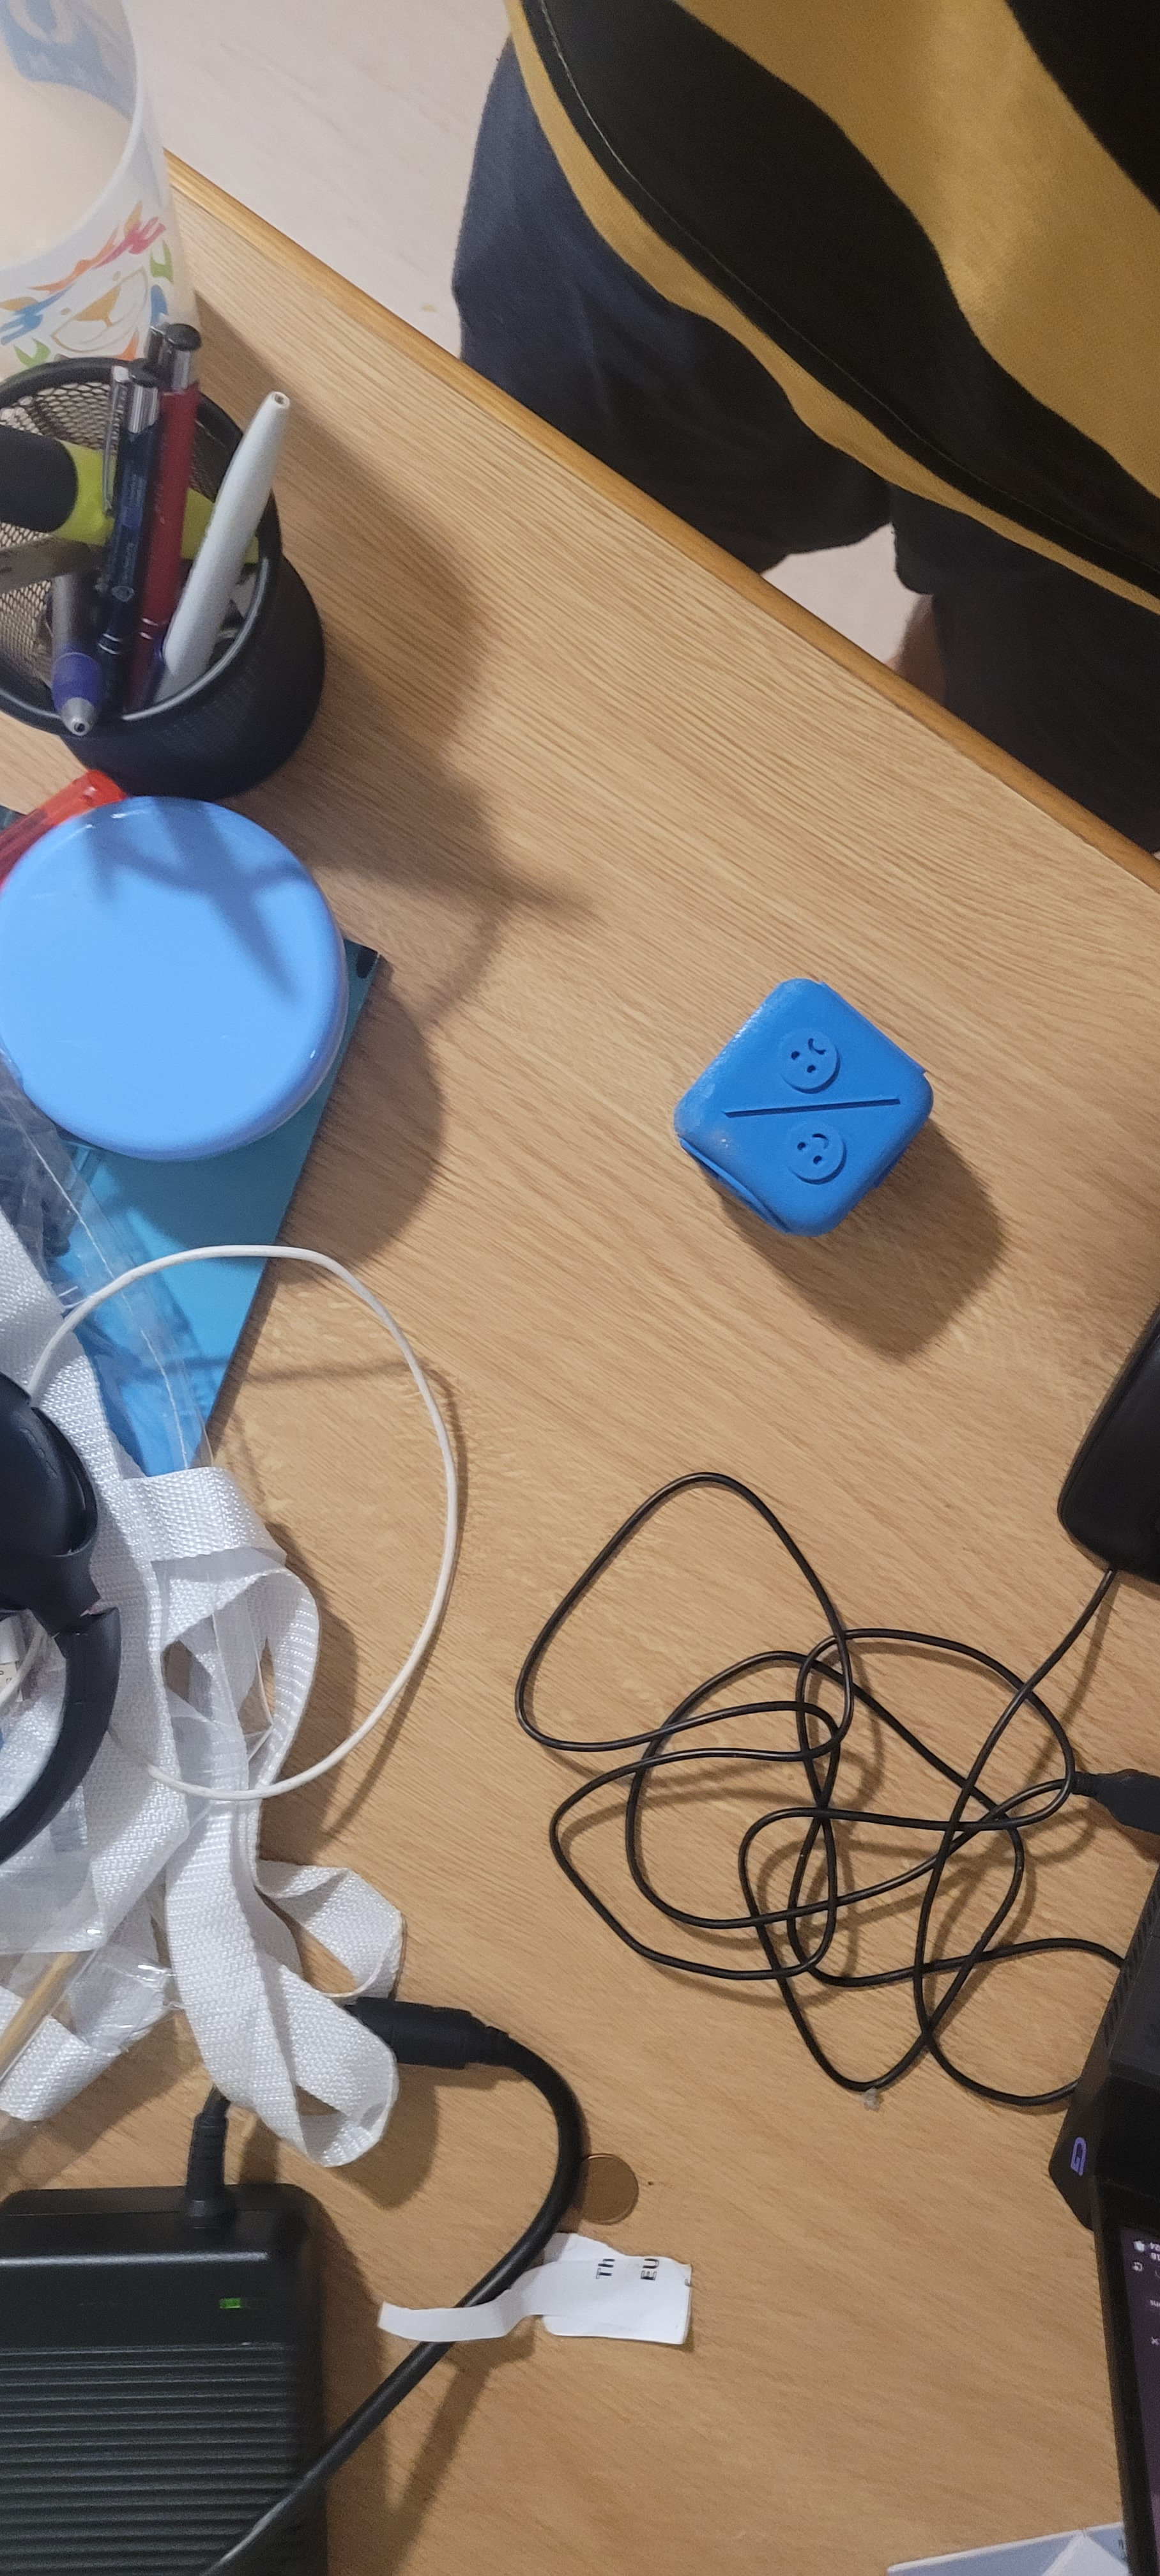Like/Dislike: (649, 987, 956, 1212)
